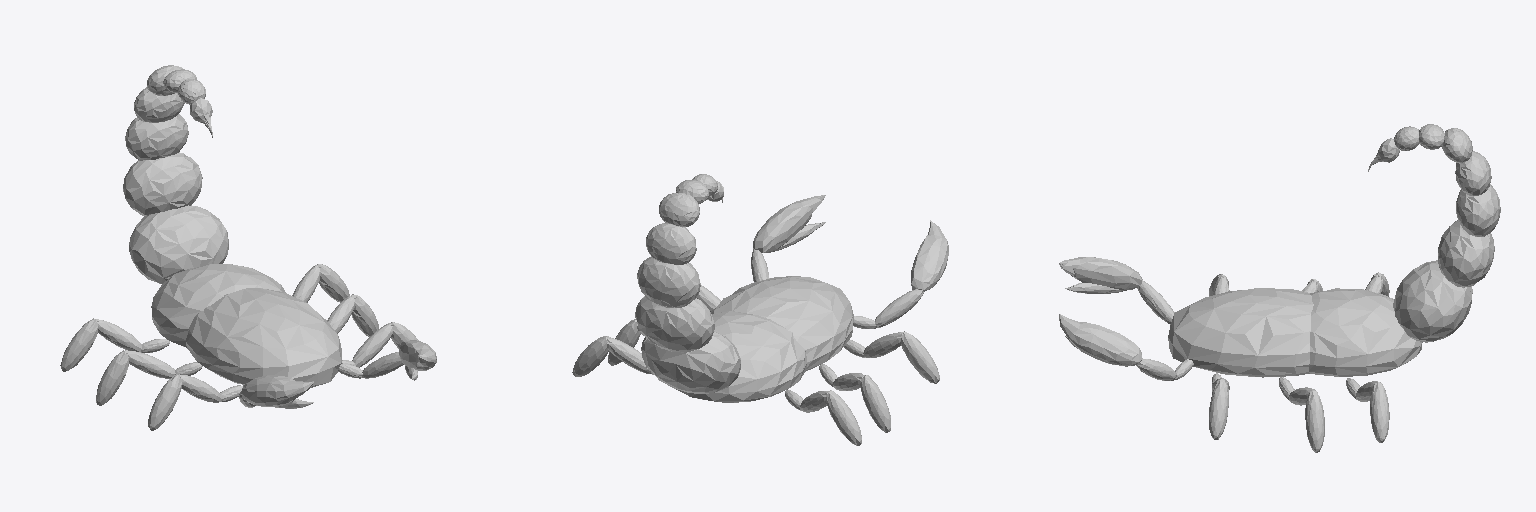
File: scorpion_000032.obj
The picture shows the model from 3 angles: view 1: azimuth 30°, elevation 25°; view 2: azimuth 150°, elevation 25°; view 3: azimuth 270°, elevation 25°; orthographic projection.
Parts seen in each view (by area): view 1: Sphere.010_Sphere.012, Sphere.002_Sphere.004, Sphere.011_Sphere.013, Sphere.003_Sphere.005, Sphere.030_Sphere.000, Sphere.004_Sphere.006, Sphere.014_Sphere.023, Sphere.012_Sphere.020, Sphere.013_Sphere.017, Sphere.000_Sphere.019, Sphere.016_Sphere.022, Sphere.018_Sphere.025 (+3 smaller); view 2: Sphere.010_Sphere.012, Sphere.011_Sphere.013, Sphere.002_Sphere.004, Sphere.030_Sphere.000, Sphere.003_Sphere.005, Sphere.004_Sphere.006, Sphere.014_Sphere.023, Sphere.005_Sphere.007, Sphere.012_Sphere.020, Sphere.028_Sphere.046, Sphere.018_Sphere.025, Sphere.006_Sphere.008 (+2 smaller); view 3: Sphere.010_Sphere.012, Sphere.011_Sphere.013, Sphere.002_Sphere.004, Sphere.030_Sphere.000, Sphere.003_Sphere.005, Sphere.004_Sphere.006, Sphere.028_Sphere.046, Sphere.005_Sphere.007, Sphere.014_Sphere.023, Sphere.000_Sphere.019, Sphere.012_Sphere.020, Sphere.006_Sphere.008 (+1 smaller).
Boxes of the visible parts, x1=… form: Sphere.010_Sphere.012: x1=186, y1=288, x2=341, y2=387; Sphere.002_Sphere.004: x1=129, y1=205, x2=228, y2=283; Sphere.011_Sphere.013: x1=151, y1=264, x2=285, y2=347; Sphere.003_Sphere.005: x1=123, y1=152, x2=202, y2=215; Sphere.030_Sphere.000: x1=241, y1=340, x2=436, y2=406; Sphere.004_Sphere.006: x1=125, y1=114, x2=188, y2=160; Sphere.014_Sphere.023: x1=60, y1=264, x2=349, y2=371; Sphere.012_Sphere.020: x1=96, y1=294, x2=378, y2=405; Sphere.013_Sphere.017: x1=180, y1=324, x2=392, y2=402; Sphere.000_Sphere.019: x1=148, y1=322, x2=418, y2=430; Sphere.016_Sphere.022: x1=125, y1=295, x2=354, y2=378; Sphere.018_Sphere.025: x1=97, y1=265, x2=320, y2=351; Sphere.010_Sphere.012: x1=711, y1=276, x2=853, y2=370; Sphere.011_Sphere.013: x1=676, y1=311, x2=807, y2=402; Sphere.002_Sphere.004: x1=641, y1=329, x2=740, y2=393; Sphere.030_Sphere.000: x1=753, y1=195, x2=948, y2=291; Sphere.003_Sphere.005: x1=635, y1=296, x2=714, y2=352; Sphere.004_Sphere.006: x1=637, y1=257, x2=700, y2=307; Sphere.014_Sphere.023: x1=572, y1=336, x2=861, y2=445; Sphere.005_Sphere.007: x1=646, y1=223, x2=696, y2=264; Sphere.012_Sphere.020: x1=608, y1=319, x2=890, y2=432; Sphere.028_Sphere.046: x1=751, y1=249, x2=923, y2=327; Sphere.018_Sphere.025: x1=607, y1=337, x2=828, y2=412; Sphere.006_Sphere.008: x1=659, y1=193, x2=699, y2=226; Sphere.010_Sphere.012: x1=1168, y1=288, x2=1313, y2=377; Sphere.011_Sphere.013: x1=1309, y1=288, x2=1422, y2=376; Sphere.002_Sphere.004: x1=1393, y1=260, x2=1472, y2=342; Sphere.030_Sphere.000: x1=1059, y1=257, x2=1142, y2=366; Sphere.003_Sphere.005: x1=1438, y1=220, x2=1494, y2=287; Sphere.004_Sphere.006: x1=1456, y1=184, x2=1500, y2=236; Sphere.028_Sphere.046: x1=1136, y1=280, x2=1177, y2=380; Sphere.005_Sphere.007: x1=1455, y1=151, x2=1491, y2=195; Sphere.014_Sphere.023: x1=1370, y1=272, x2=1389, y2=442; Sphere.000_Sphere.019: x1=1209, y1=274, x2=1228, y2=439; Sphere.012_Sphere.020: x1=1305, y1=279, x2=1324, y2=452; Sphere.006_Sphere.008: x1=1442, y1=128, x2=1472, y2=162.
Size of the model in its own units: 0.9391 by 0.8064 by 1.25.